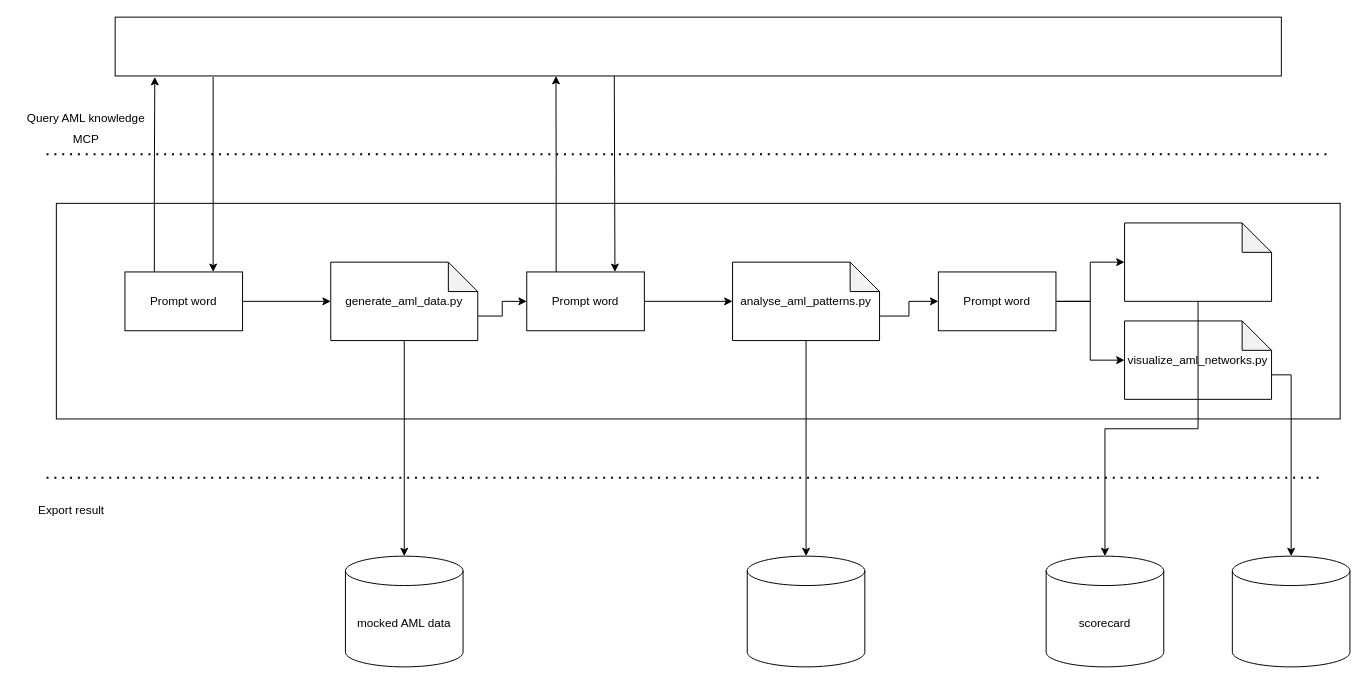
This 1367x684 diagram has some shape labels left out. Each missing label, with the centre of its shape:
analysed AML data: [805,611]
Dify server: [697,46]
generate_aml_scorecard.py: [1198,261]
network visualization: [1290,611]
